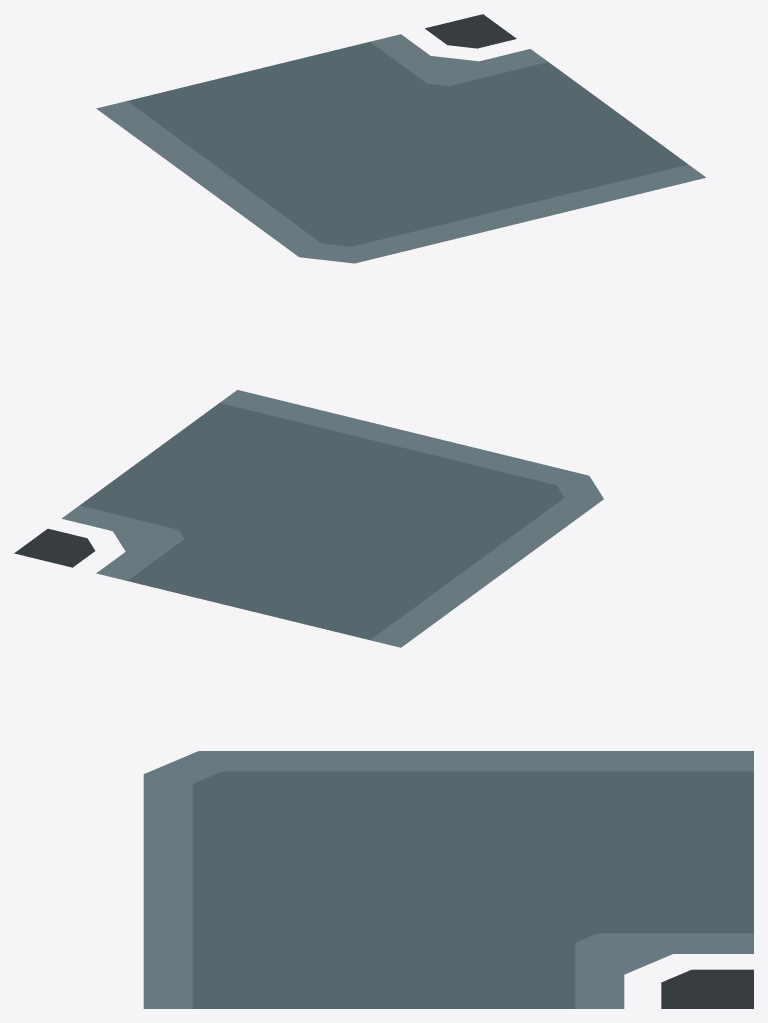
File: Ceiling_type_C_048.glb
3 renders of one model, top to bottom at view 1: azimuth 30°, elevation 25°; view 2: azimuth 150°, elevation 25°; view 3: azimuth 270°, elevation 25°, orthographic. The views are drawn at different scales.
Parts seen in each view (by area): view 1: Ceiling_type_C_048; view 2: Ceiling_type_C_048; view 3: Ceiling_type_C_048.
Boxes of the visible parts, x1=… form: Ceiling_type_C_048: x1=96, y1=14, x2=705, y2=263; Ceiling_type_C_048: x1=14, y1=390, x2=603, y2=647; Ceiling_type_C_048: x1=143, y1=751, x2=753, y2=1008.
Bounding box in the file's own units: 4 × 0.035 × 4.
Materials: 2 (2 with a texture image).
